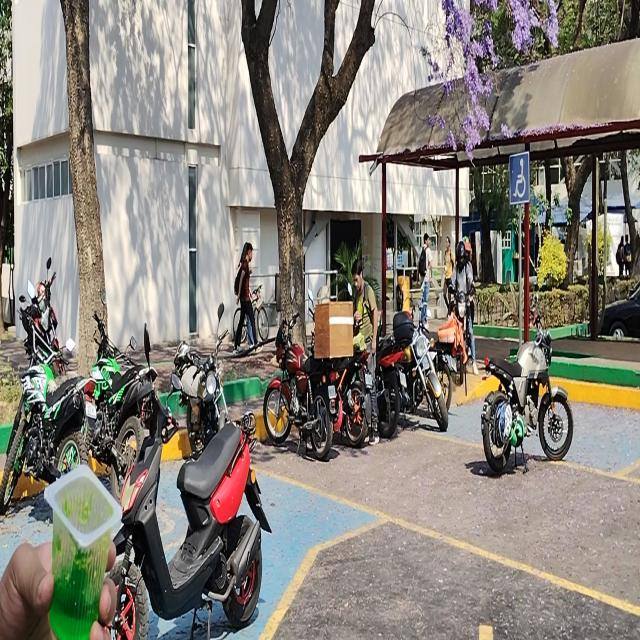adult: (352, 255, 380, 441), (230, 240, 262, 358), (454, 240, 477, 374), (416, 231, 433, 328), (444, 237, 454, 319)
